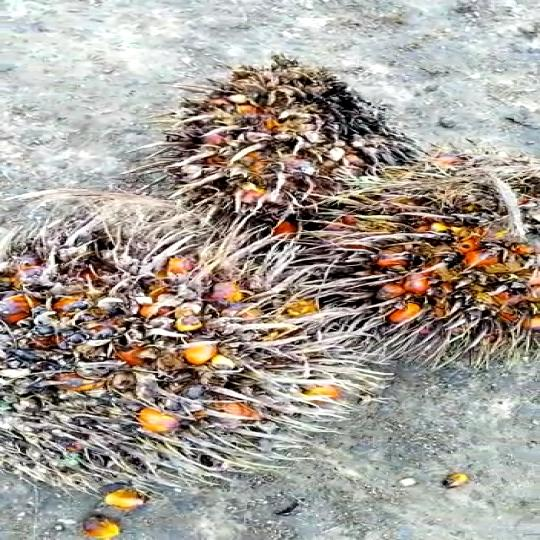terlalu masak: (0, 196, 390, 486), (345, 148, 540, 370), (165, 64, 403, 223)
